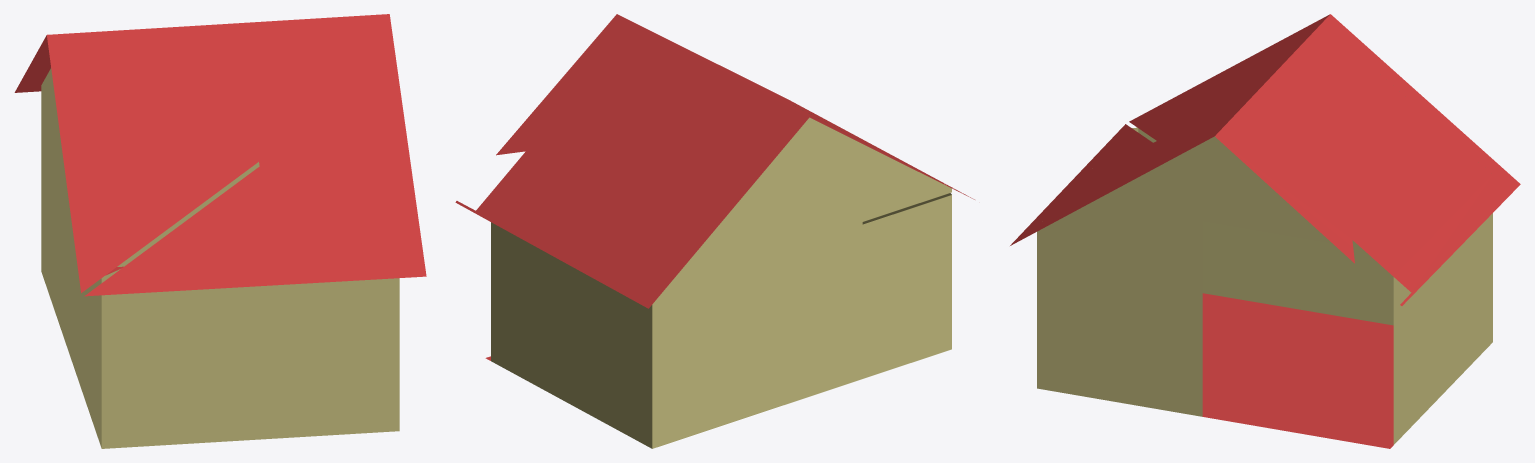
3 renders of one model, left to right at view 1: azimuth 30°, elevation 25°; view 2: azimuth 150°, elevation 25°; view 3: azimuth 270°, elevation 25°, orthographic. The views are drawn at different scales.
Bounding box in the file's own units: 15.74 × 17.94 × 11.26.
